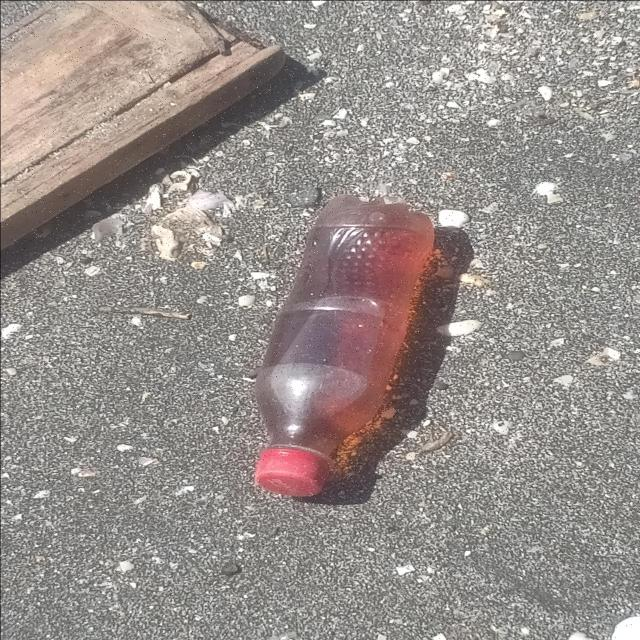plastic_waste: (251, 193, 435, 500)
